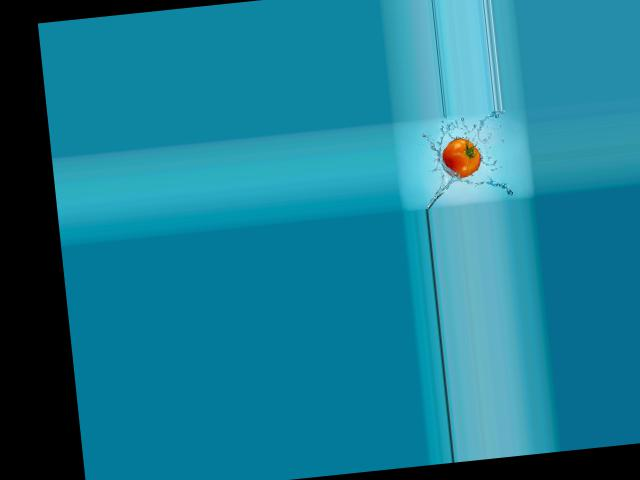tomato: (440, 135, 482, 179)
